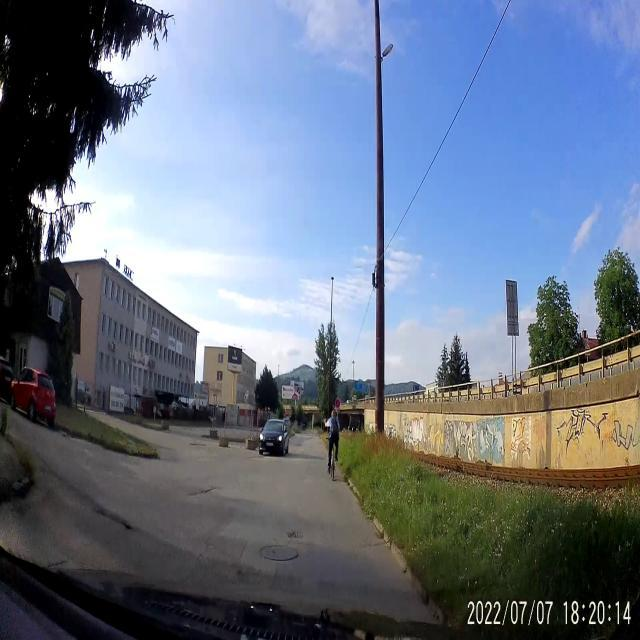Manhole: (260, 538, 300, 566)
Pothole: (187, 483, 222, 499), (284, 528, 306, 548)
